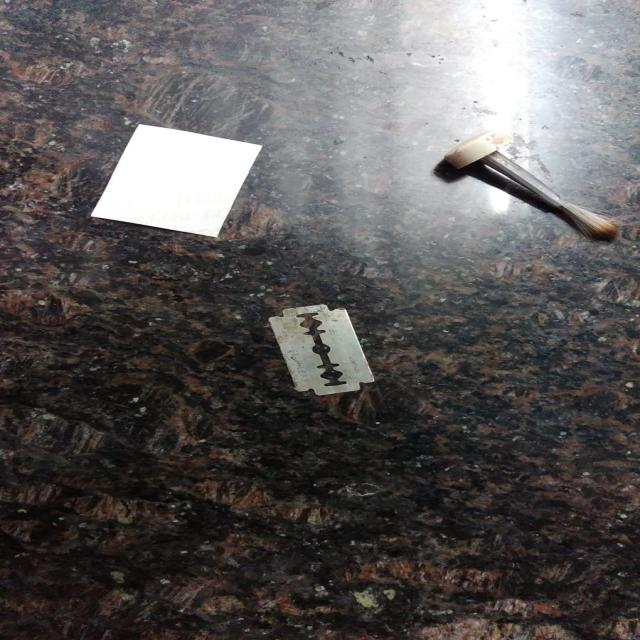metal: (431, 112, 640, 255), (238, 297, 418, 407)
paper: (44, 105, 311, 257)
